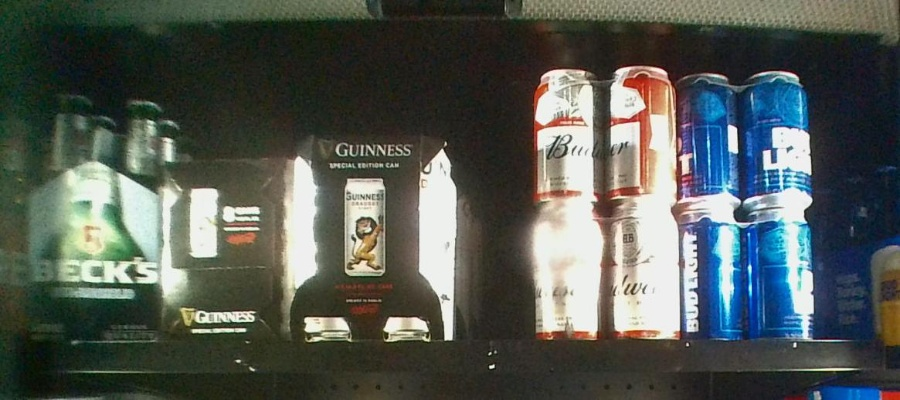bottle: (534, 64, 680, 340), (680, 71, 816, 340), (290, 134, 453, 342), (38, 86, 158, 338), (155, 157, 288, 342)
